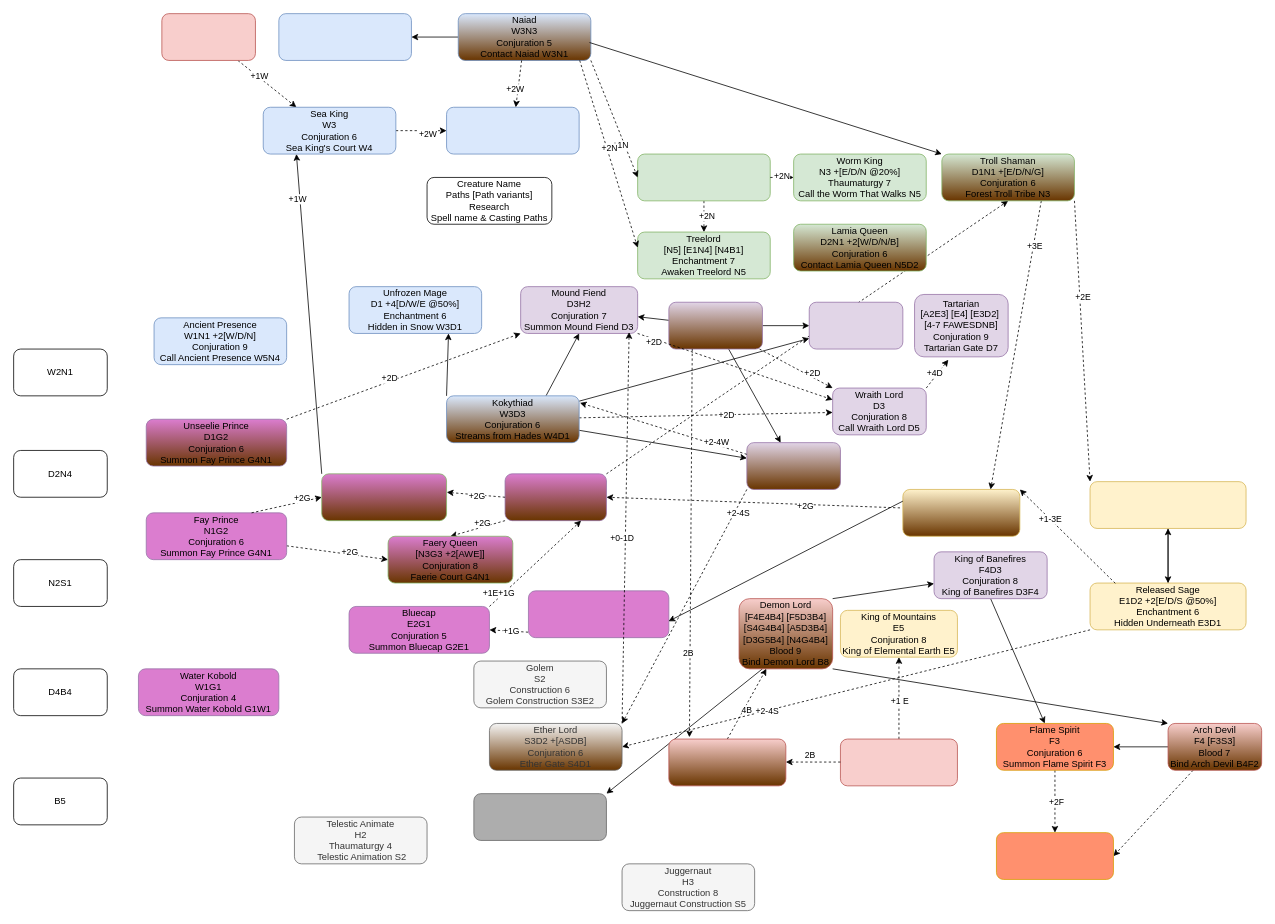
The diagram is 1275 pixels wide and 924 high, and some of its shapes have lost their labels. The box of each missing label's shape, as (x1, y1, x2, y2) in pixels:
Bishop Fish H3 Conjuration 6 Summon Bishop Fish W3: (278, 13, 411, 60)
Cave Kobold E1G1 Conjuration 4 Summon Cave Kobold G1E1: (528, 590, 669, 638)
Dust Priest E1D2H2 +2[F/E/S] +[F/D @50%] Enchantment 6 Hidden in Sand E3D1: (1089, 481, 1246, 528)
Father Illearth E4B3 Blood 7 Father IllEarth B3E4: (840, 738, 957, 786)
Gnome E2N2G2 Conjuration 6 Summon Gnome G3E2: (504, 473, 606, 521)
Heliophagus [B4] [D4B3] [B3D3] [F4B3] Blood 8 Bind Heliophagus B5: (668, 738, 786, 786)
Ice Devil W3 [+S2] [+D3] Blood 6 Bind Ice Devil B3W3: (161, 13, 255, 60)
Ivy King N3 Conjuration 7 Awaken Ivy King N4: (637, 153, 770, 201)
King of Flames [F5] [F5E1] Conjuration 8 King of Elemental Fire F5: (996, 832, 1113, 879)
Queen of Storms A5 Conjuration 8 Queen of Elemental Air A5: (473, 793, 606, 840)
Queen of the Sea W5 Conjuration 8 Queen of Elemental Water W5: (446, 106, 579, 154)
Revenant D1 Enchantment 3 Create Revenant D2: (808, 301, 903, 349)
Spectral Mage D1 +2[W/S/D/G] Conjuration 6 Summon Spectre D3: (746, 442, 840, 489)
Troll King E3G1 Conjuration 6 Troll King's Court E4: (902, 489, 1020, 536)
Vampire Lord D3B3 Blood 8 Curse of Blood B3D4: (668, 301, 762, 349)
Winter Queen [W3G3 +2[AD]] Conjuration 8 Faerie Court G4N1: (321, 473, 447, 521)
